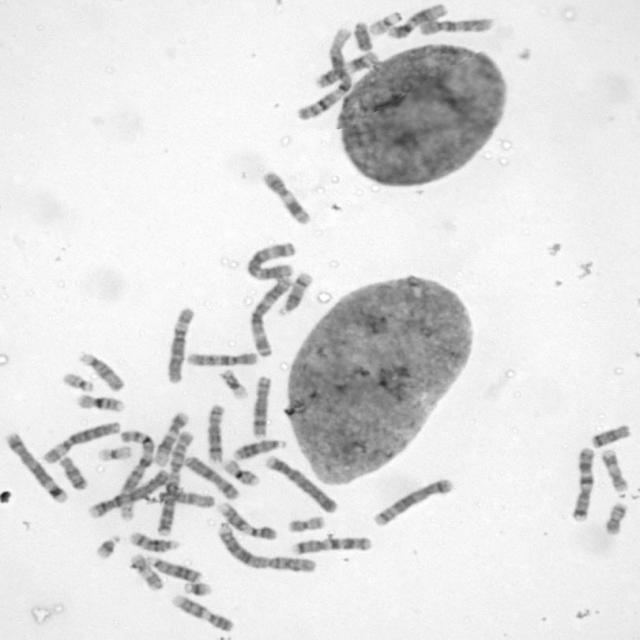A1: (293, 24, 354, 121), (116, 426, 156, 521)
A2: (215, 521, 317, 574), (154, 428, 195, 536)
A3: (247, 273, 294, 358), (244, 239, 296, 282)
B4: (261, 452, 339, 514), (87, 467, 171, 520)
B5: (2, 429, 68, 504), (370, 475, 456, 528)
C10: (416, 15, 496, 38), (183, 348, 259, 368)
C11: (258, 168, 312, 226), (311, 48, 381, 88)
C12: (384, 1, 449, 40), (152, 409, 190, 466)
C6: (39, 418, 121, 464), (163, 302, 197, 385)
C7: (570, 443, 596, 522), (290, 533, 373, 556)
C8: (248, 372, 273, 438), (203, 401, 226, 464)
C9: (168, 592, 236, 633), (214, 500, 278, 540)
D13: (143, 553, 203, 583), (231, 435, 288, 461)
D14: (276, 268, 314, 318), (127, 530, 180, 552)
D15: (76, 349, 126, 392), (148, 487, 216, 509)
E16: (220, 456, 260, 487), (72, 391, 126, 413)
E17: (598, 446, 630, 494), (127, 551, 165, 591)
E18: (57, 453, 90, 491), (589, 421, 632, 448)
F19: (216, 366, 250, 400), (95, 442, 133, 463)
F20: (602, 499, 628, 536), (285, 513, 327, 533)
G21: (91, 532, 122, 560), (181, 578, 214, 598)
G22: (366, 8, 404, 36), (58, 368, 95, 393)
X: (180, 452, 241, 501)
Y: (351, 18, 374, 52)
